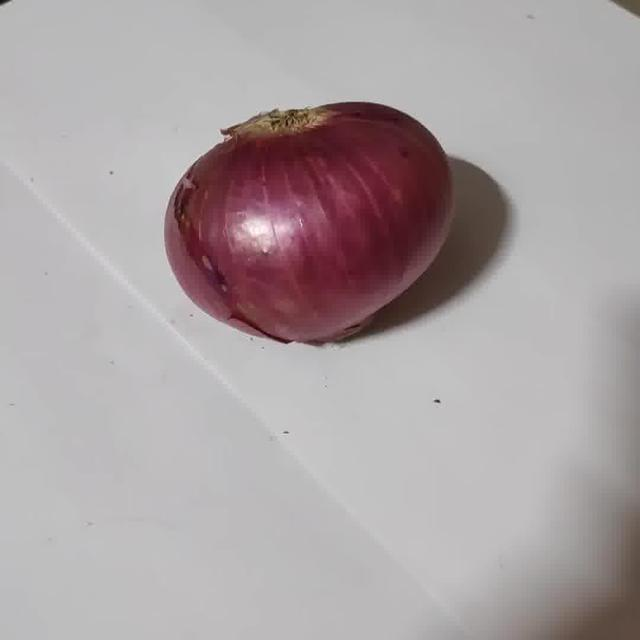Onion: (164, 103, 454, 343)
